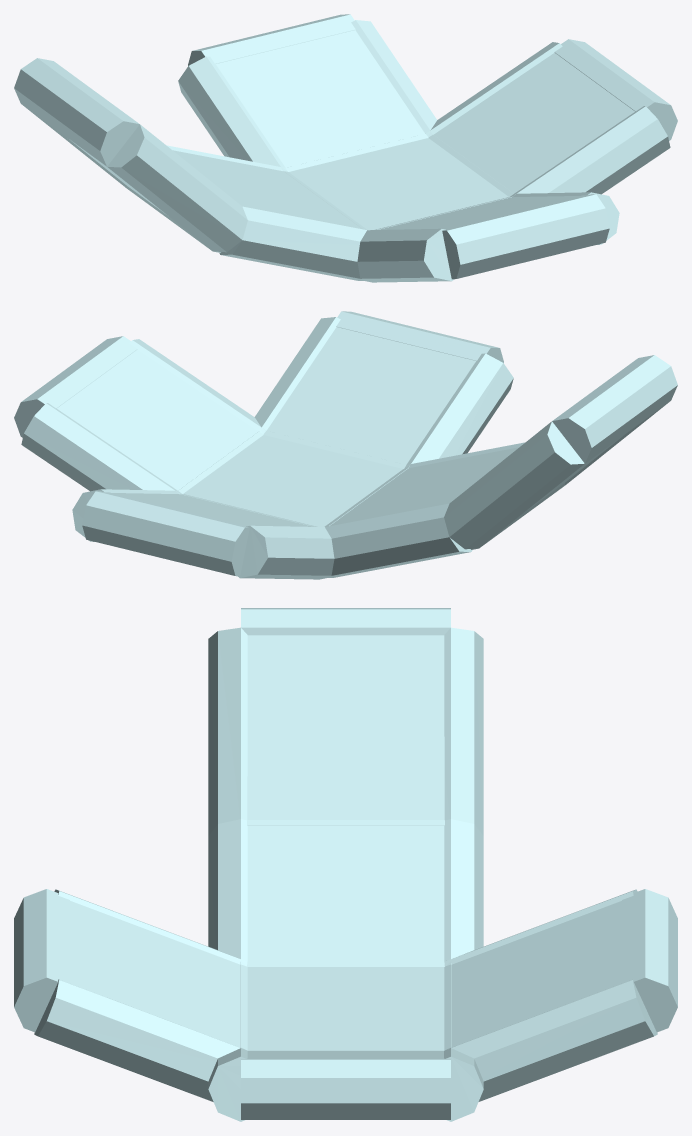
The model's file is jaring kubus 25.glb.
The picture shows the model from 3 angles, top to bottom: view 1: azimuth 30°, elevation 25°; view 2: azimuth 150°, elevation 25°; view 3: azimuth 270°, elevation 25°; orthographic projection. The views are drawn at different scales.
Bounding box in the file's own units: 43.43 × 15.73 × 35.49.
